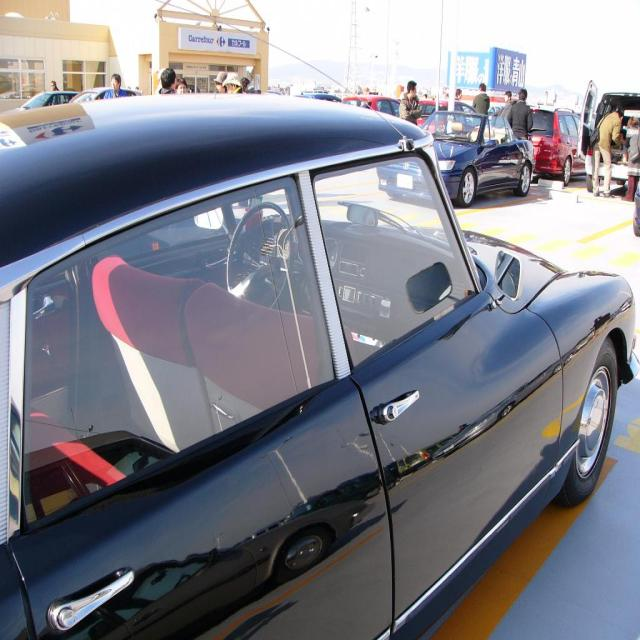car: (10, 98, 635, 630)
